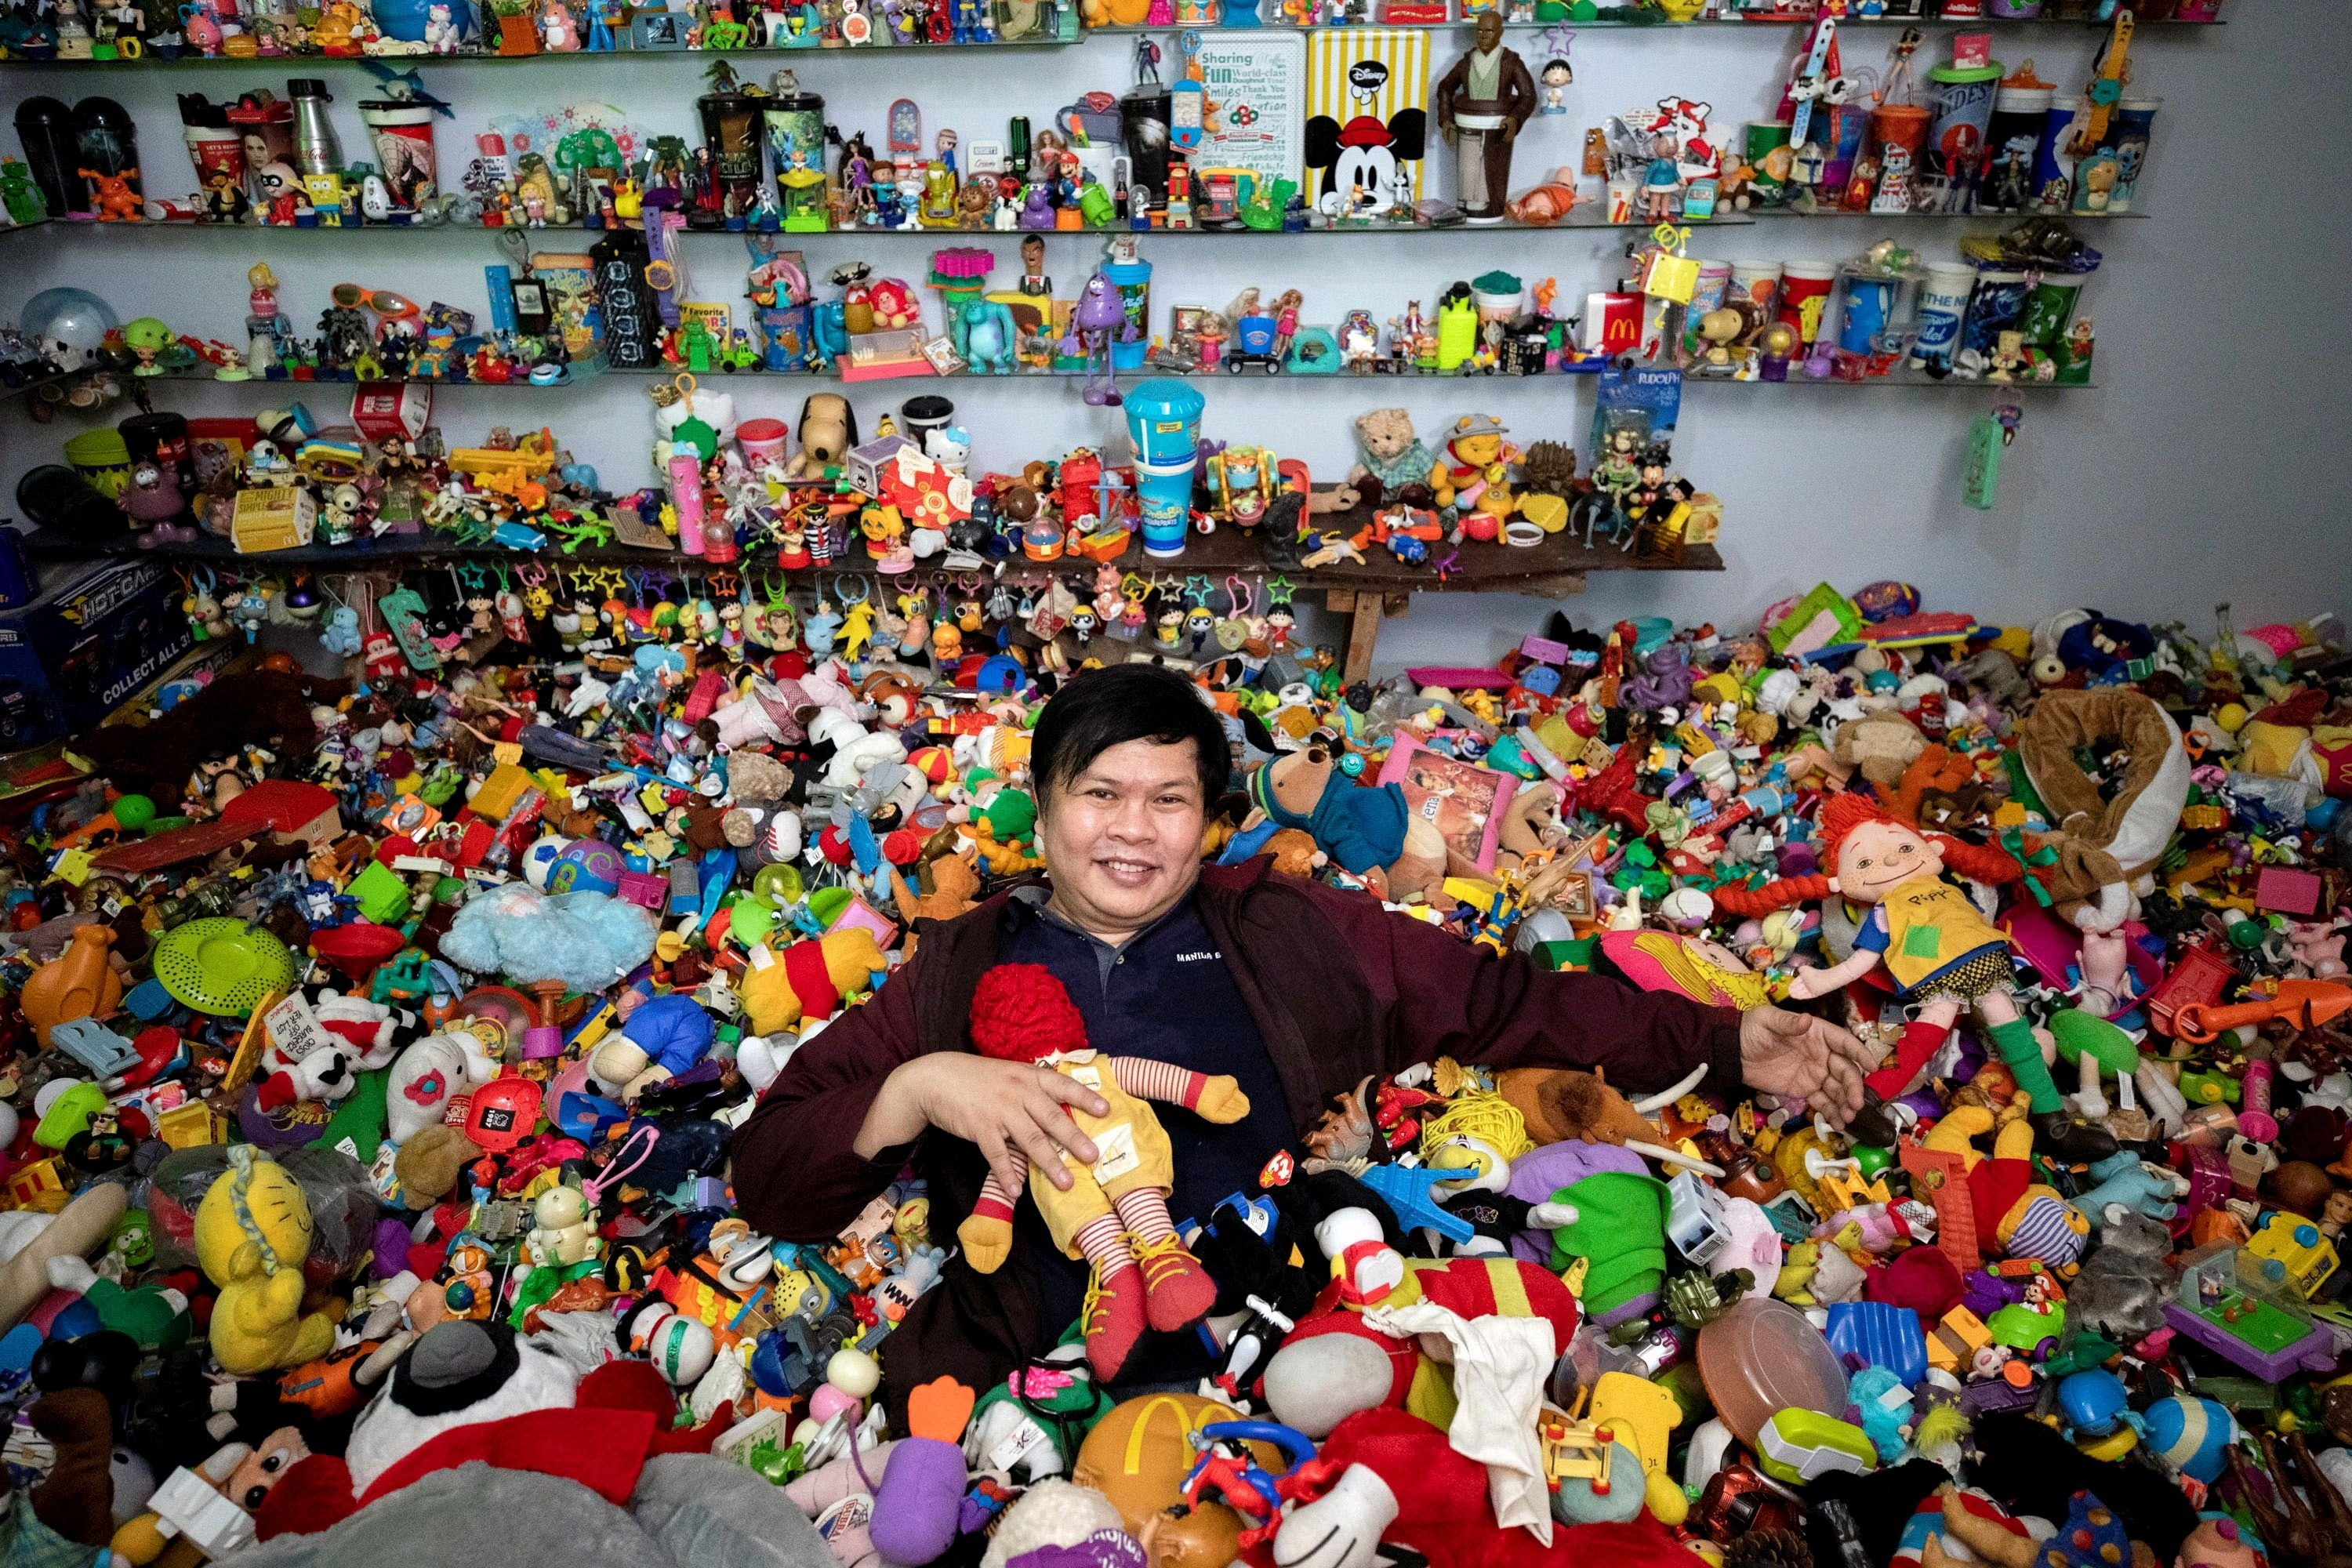toy: (187, 597, 955, 889)
